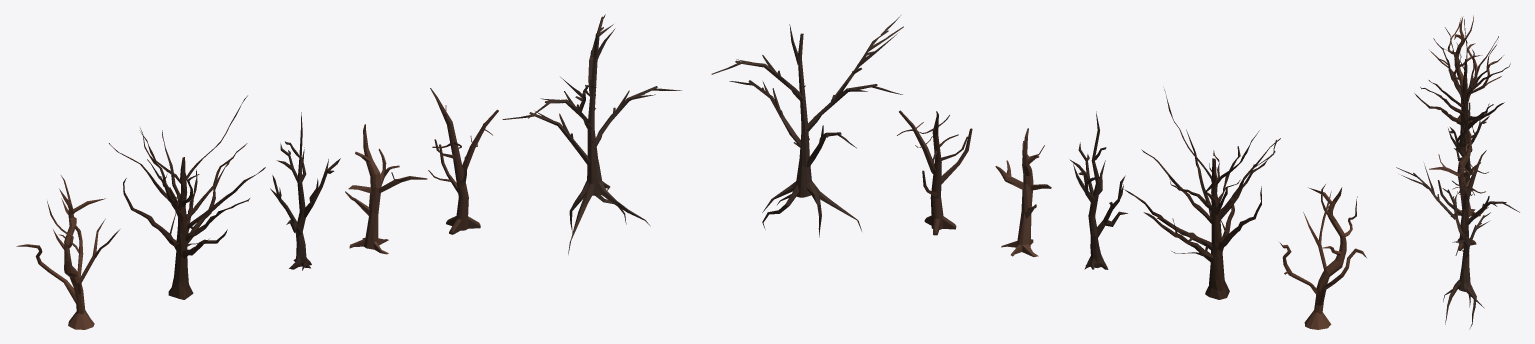
Rendered from Dead_Trees_Fixed.fbx.
3 renders of one model, left to right at view 1: azimuth 30°, elevation 25°; view 2: azimuth 150°, elevation 25°; view 3: azimuth 270°, elevation 25°, orthographic. The views are drawn at different scales.
Visible parts, largest first — view 1: Dead_Tree_2, Dead_Tree_6, Dead_Tree_1, Dead_tree_5, Dead_Tree_4, Dead_Tree_3; view 2: Dead_Tree_2, Dead_Tree_6, Dead_Tree_1, Dead_tree_5, Dead_Tree_3, Dead_Tree_4; view 3: Dead_Tree_6, Dead_Tree_2, Dead_Tree_1, Dead_Tree_4, Dead_tree_5, Dead_Tree_3.
Boxes of the visible parts, x1,y1,x2,y2 form: Dead_Tree_2: (109,95,265,299); Dead_Tree_6: (502,14,681,254); Dead_Tree_1: (16,175,119,329); Dead_tree_5: (428,88,498,234); Dead_Tree_4: (345,124,427,254); Dead_Tree_3: (270,112,340,270); Dead_Tree_2: (1124,89,1280,299); Dead_Tree_6: (711,15,903,237); Dead_Tree_1: (1279,184,1366,329); Dead_tree_5: (897,110,972,235); Dead_Tree_3: (1069,111,1127,269); Dead_Tree_4: (995,128,1051,256); Dead_Tree_6: (1396,163,1519,329); Dead_Tree_2: (1414,19,1510,151); Dead_Tree_1: (1429,15,1503,123); Dead_Tree_4: (1429,129,1480,218); Dead_tree_5: (1437,150,1489,250); Dead_Tree_3: (1448,87,1489,194).
Size of the model in its own units: 3539 by 1204 by 855.
